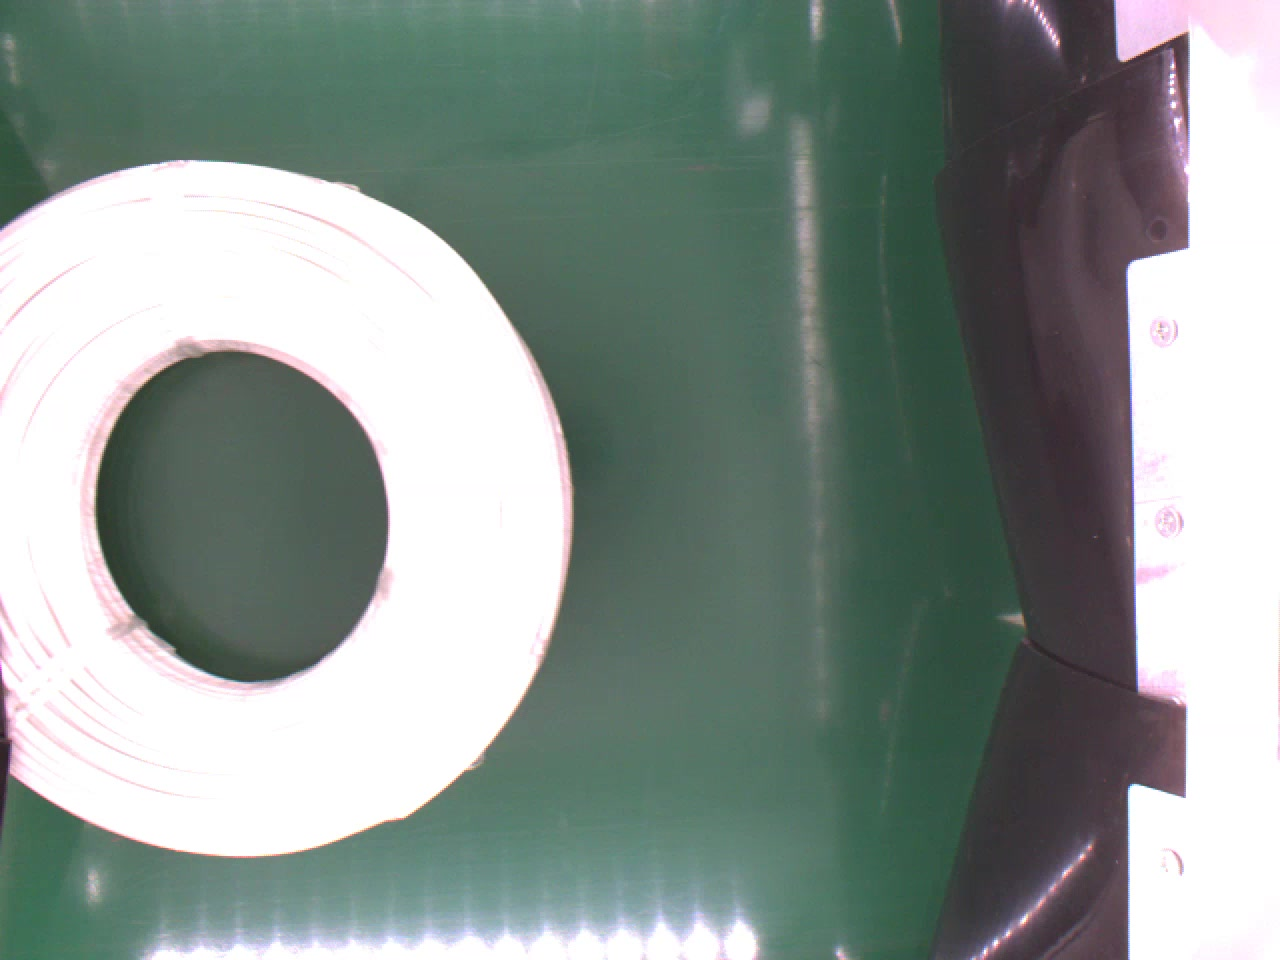white: (0, 158, 577, 862)
